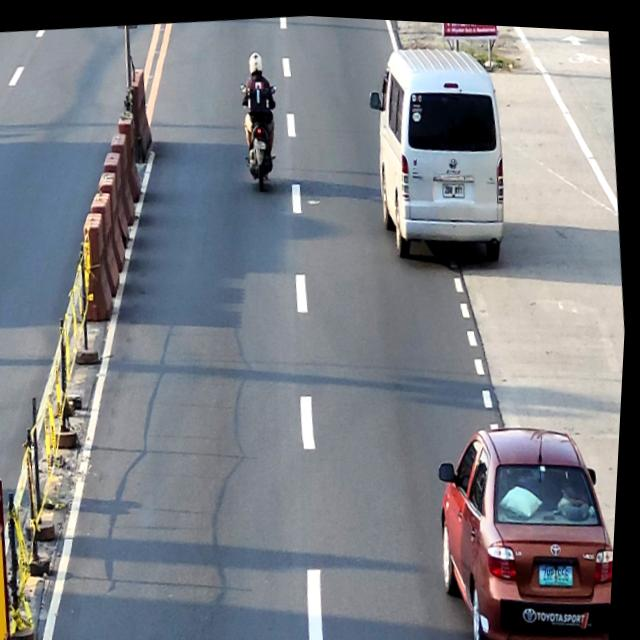Car: (430, 408, 624, 640), (358, 35, 521, 271)
License-Plate: (544, 555, 580, 581), (443, 176, 467, 194), (254, 138, 267, 147)
Motorcycle: (236, 75, 288, 191)
